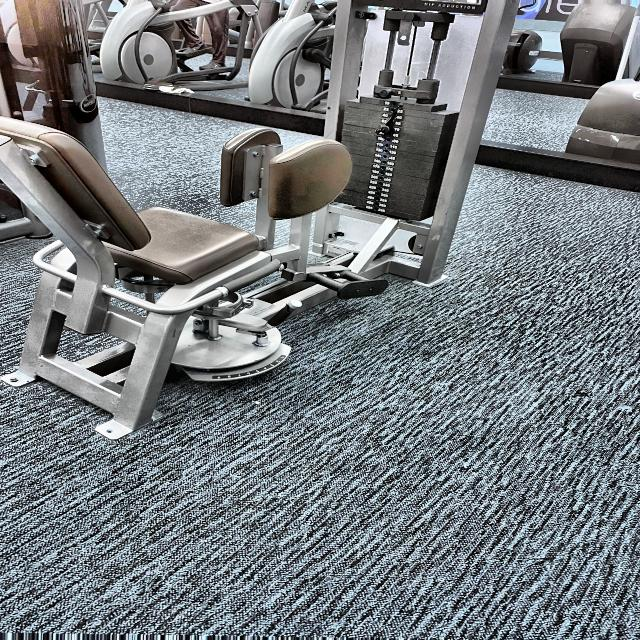hip_adduction_machine: (3, 51, 302, 436), (421, 0, 476, 13)
